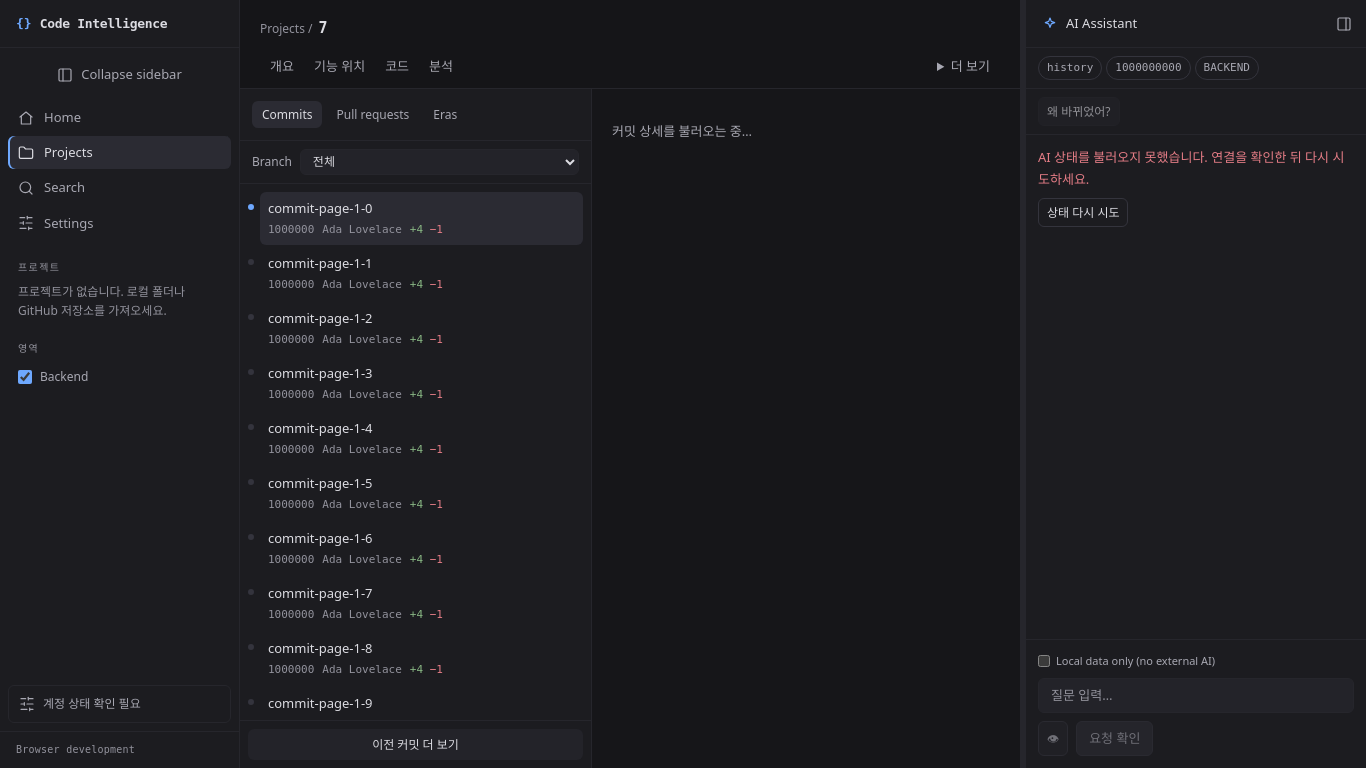
Scenario: HistoryPage › renders the commit timeline and fetches the next page
The image size is (1366, 768).
Expected: the text "commit-page-1-0" is shown, [268, 198, 372, 219]
Click the button "이전 커밋 더 보기" at (416, 744), box [248, 728, 583, 760]
(page scrolled)
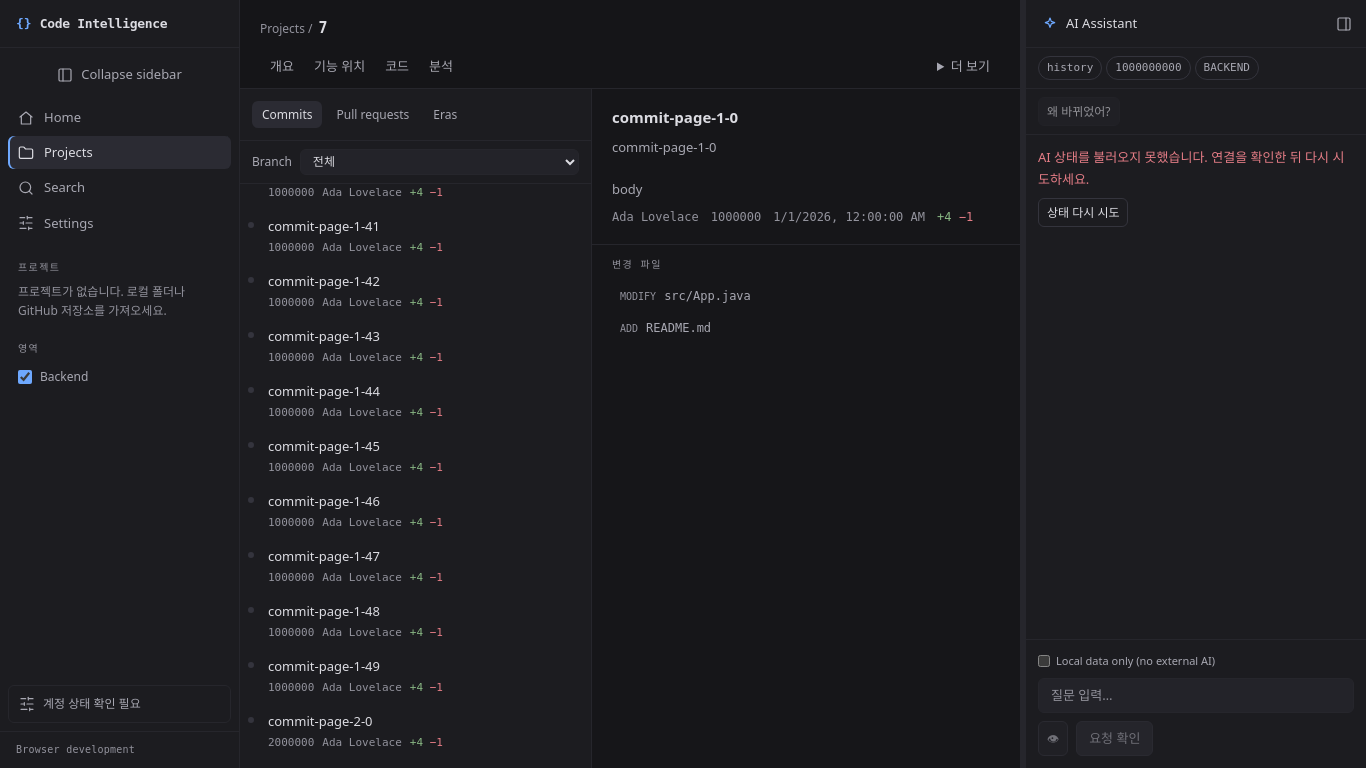
Expected: the text "commit-page-2-0" is shown, [268, 711, 372, 732]
